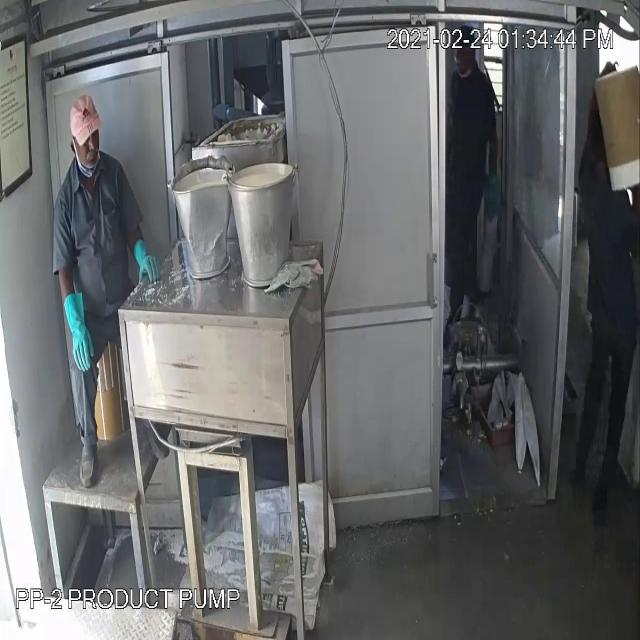no-helmet: (60, 83, 112, 152)
